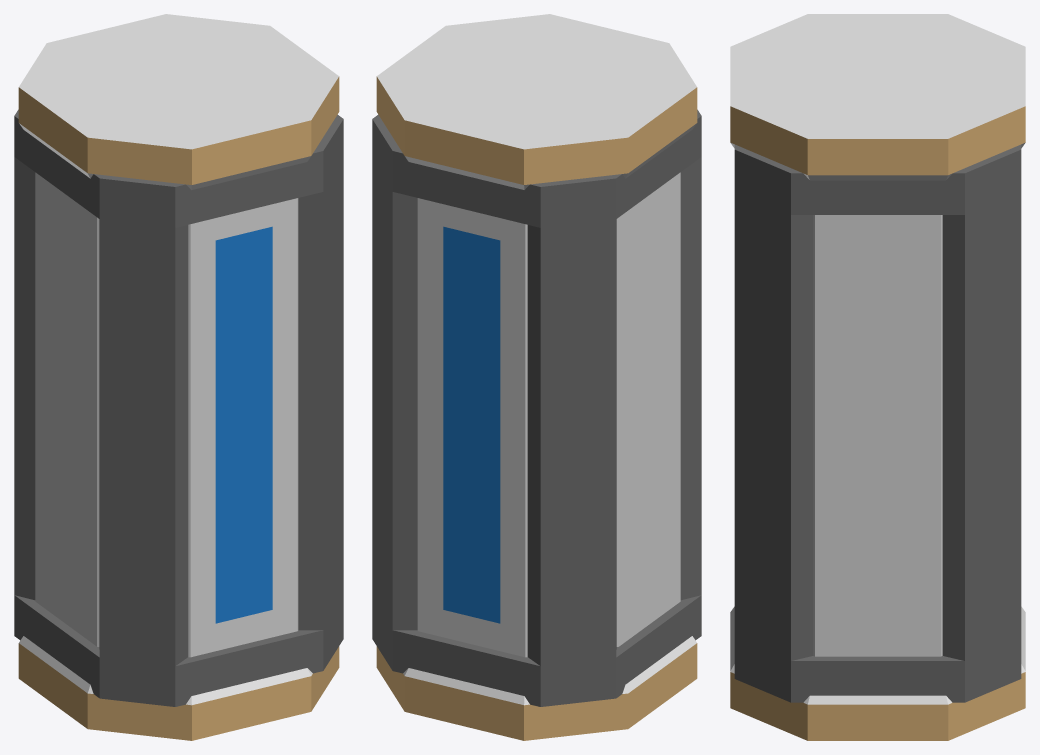
The model's file is OxygenTank.fbx.
3 renders of one model, left to right at view 1: azimuth 30°, elevation 25°; view 2: azimuth 150°, elevation 25°; view 3: azimuth 270°, elevation 25°, orthographic.
Visible parts, largest first — view 1: OxygenTank; view 2: OxygenTank; view 3: OxygenTank.
Boxes of the visible parts, bbox=[...] form: OxygenTank: bbox=[14, 14, 343, 740]; OxygenTank: bbox=[372, 14, 701, 740]; OxygenTank: bbox=[730, 14, 1025, 740].
Size of the model in its own units: 37.65 by 84.61 by 37.65.
